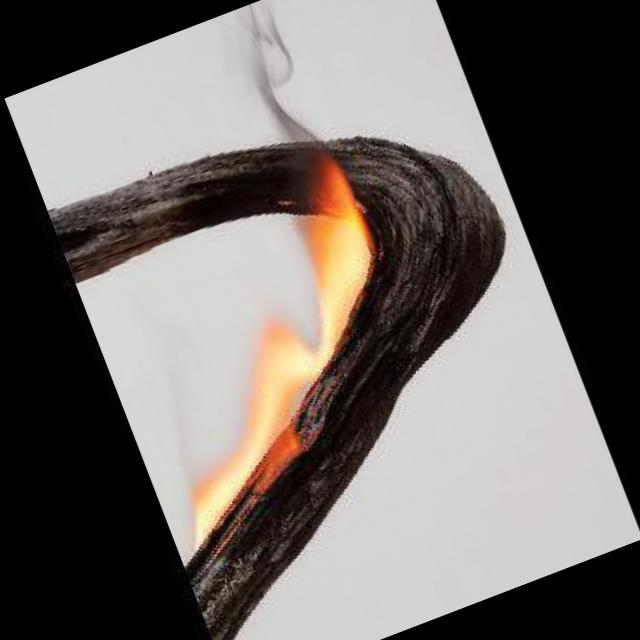fire: (92, 138, 492, 616)
smoke: (212, 0, 355, 200)
